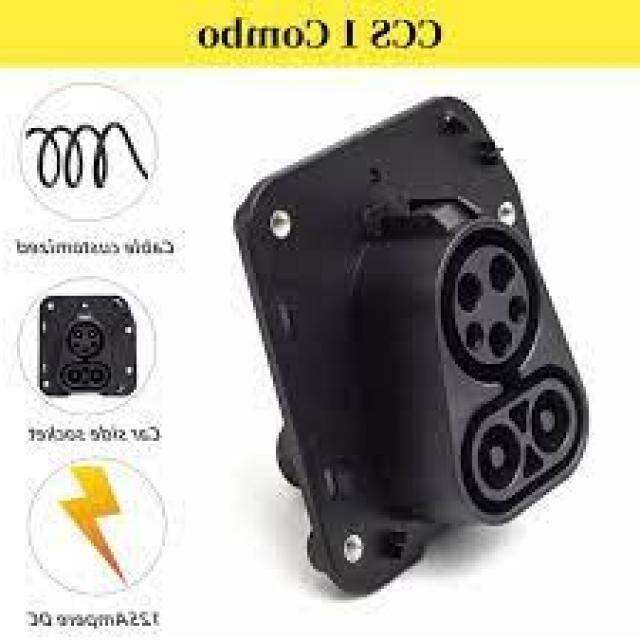CCS1: (387, 202, 592, 564)
